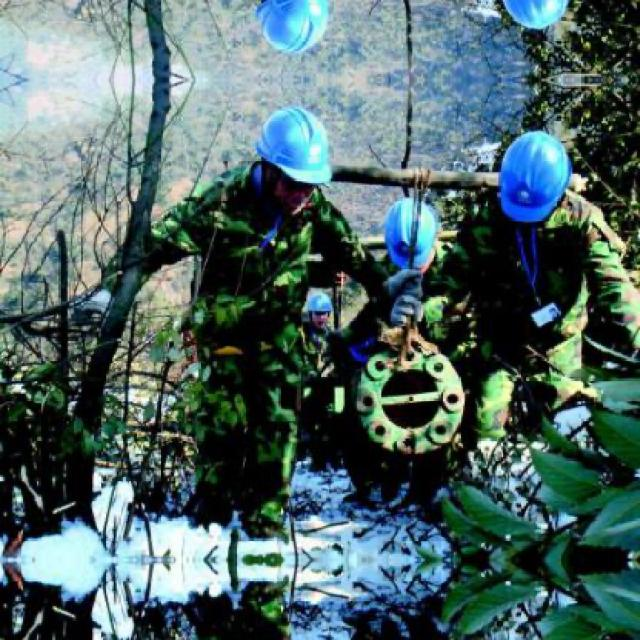helmet: (254, 101, 335, 214), (498, 128, 577, 232), (252, 0, 336, 60), (377, 192, 432, 282), (497, 0, 577, 34), (298, 288, 336, 328)
